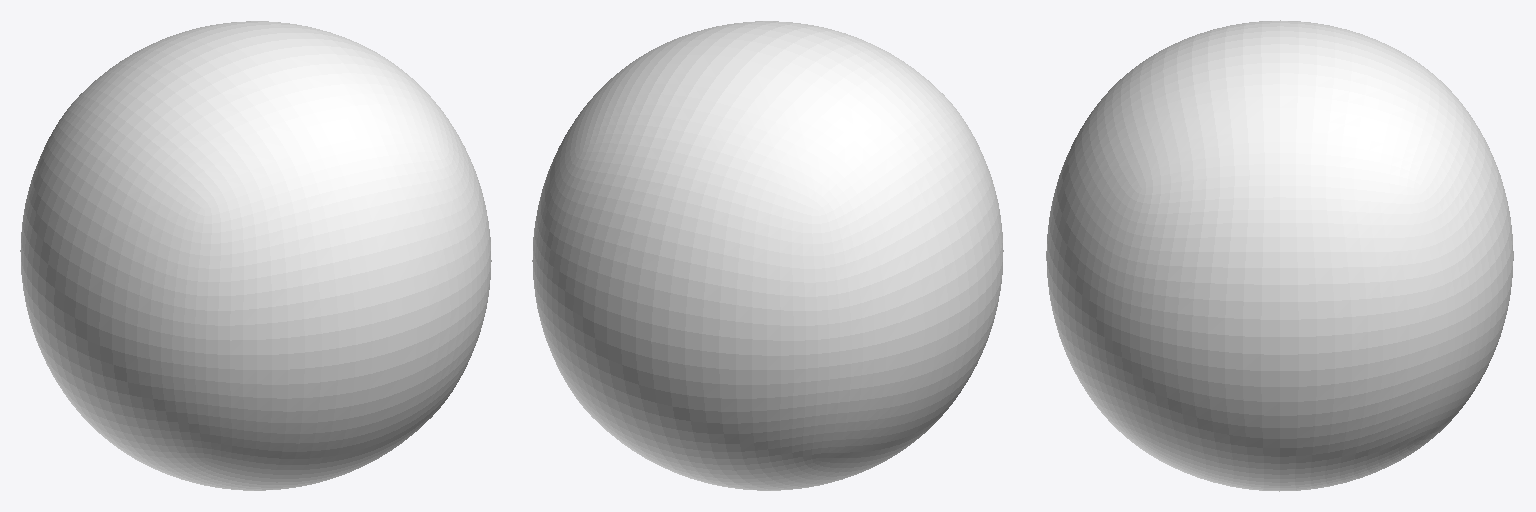
The robot description file, URDF, robot "ball":
<?xml version="1.0" encoding="utf-8"?>
<robot name="ball">
  <link name="base_link">
    <contact>
      <lateral_friction value="0.5"/>
      <rolling_friction value="0.0"/>
      <contact_cfm value="0.0"/>
      <contact_erp value="1.0"/>
    </contact>
    <inertial>
      <origin rpy="0 0 0" xyz="0 0 0"/>
      <mass value="5"/>
      <inertia ixx="0" ixy="0" ixz="0" iyy="0" iyz="0" izz="0"/>
    </inertial>
    <visual>
      <origin rpy="1.57 0 0" xyz="0 0 0"/>
      <geometry>
        <mesh filename="models/meshes/ball/10487_basketball_v1_3dmax2011_it2.obj" scale="0.012 0.012 0.012"/>
      </geometry>
      <material name="tray_material">
        <color rgba="1 1 1 1"/>
      </material>
    </visual>
    <collision>
      <origin rpy="1.57 0 0" xyz="0 0 0"/>
      <geometry>
        <mesh filename="models/meshes/ball/10487_basketball_v1_3dmax2011_it2.obj" scale="0.012 0.012 0.012"/>
      </geometry>
    </collision>
  </link>
</robot>

--- Render facts (derived) ---
3 views of the same robot in one strip: view 1: azimuth 30°, elevation 25°; view 2: azimuth 150°, elevation 25°; view 3: azimuth 270°, elevation 25° (orthographic).
Model ball with 1 links and 0 joints (none), rooted at base_link, posed all joints at 0.
Links seen in each view (by area): view 1: base_link; view 2: base_link; view 3: base_link.
Link boxes in pixels (<box>): base_link: <box>20,21,491,490</box>; base_link: <box>532,21,1003,490</box>; base_link: <box>1046,20,1513,491</box>.
Size in the robot's own frame: 0.472 by 0.472 by 0.472 metres.
1 mesh visuals loaded from 1 distinct referenced files (1 OBJ).